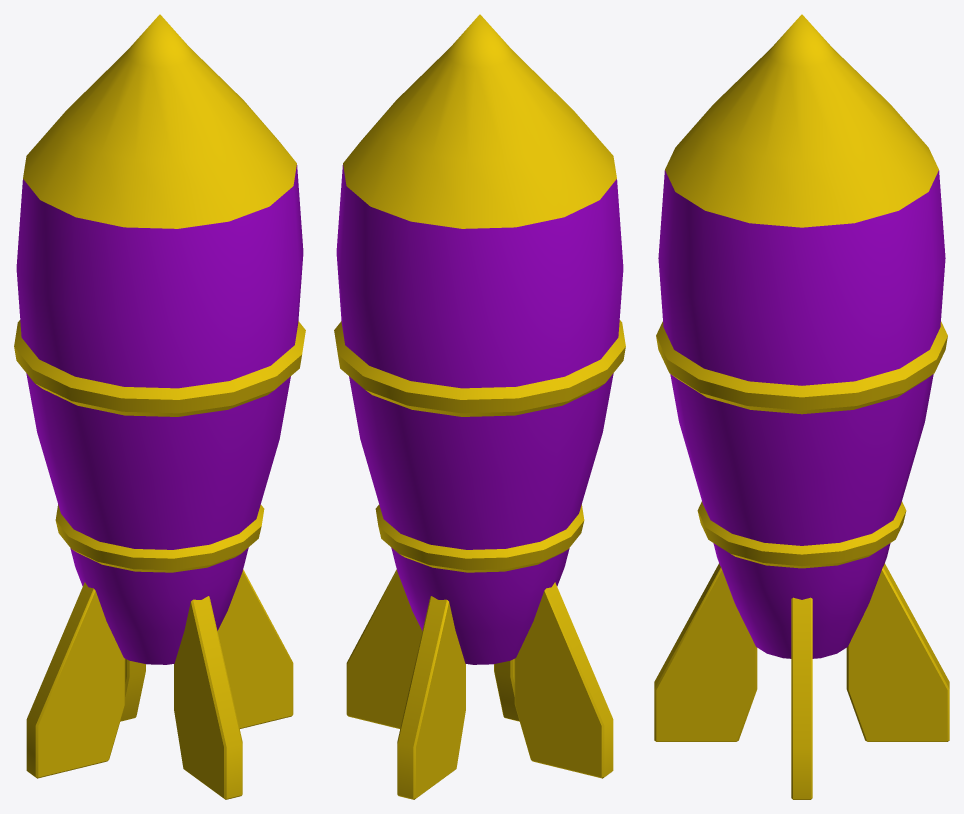
File: Bomb_2.fbx
The picture shows the model from 3 angles, left to right: view 1: azimuth 30°, elevation 25°; view 2: azimuth 150°, elevation 25°; view 3: azimuth 270°, elevation 25°; orthographic projection.
Visible parts, largest first — view 1: Body_Lv2, Motor_Lv2, Head_Lv2; view 2: Body_Lv2, Motor_Lv2, Head_Lv2; view 3: Body_Lv2, Motor_Lv2, Head_Lv2.
Boxes of the visible parts, <box> form: Body_Lv2: <box>14,165,305,549</box>; Motor_Lv2: <box>26,504,293,799</box>; Head_Lv2: <box>23,14,296,228</box>; Body_Lv2: <box>334,165,625,549</box>; Motor_Lv2: <box>346,504,613,799</box>; Head_Lv2: <box>343,14,616,228</box>; Body_Lv2: <box>656,170,947,545</box>; Motor_Lv2: <box>654,501,949,799</box>; Head_Lv2: <box>665,14,938,227</box>.
Size of the model in its own units: 2.31 by 6.24 by 2.31.
